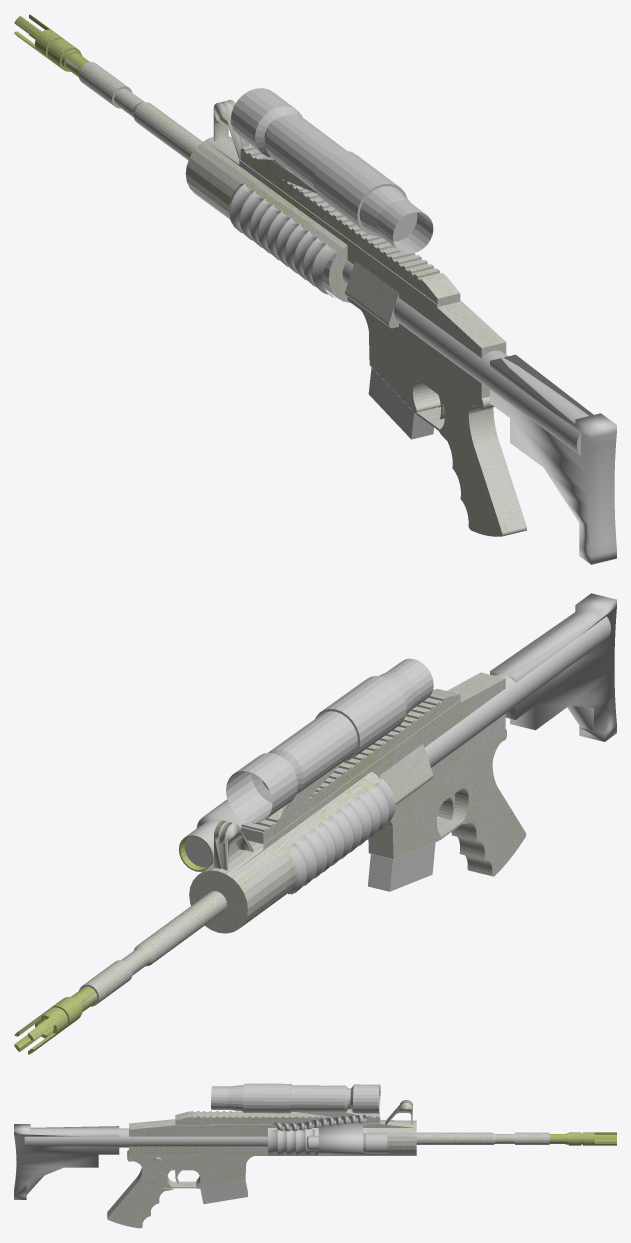
The picture shows the model from 3 angles, top to bottom: view 1: azimuth 30°, elevation 25°; view 2: azimuth 150°, elevation 25°; view 3: azimuth 270°, elevation 25°; orthographic projection. The views are drawn at different scales.
Parts seen in each view (by area): view 1: mesh2_mesh2-geometry, mesh9_mesh9-geometry, mesh3_mesh3-geometry, mesh4_mesh4-geometry, mesh10_mesh10-geometry, mesh8_mesh8-geometry; view 2: mesh2_mesh2-geometry, mesh9_mesh9-geometry, mesh3_mesh3-geometry, mesh4_mesh4-geometry, mesh10_mesh10-geometry, mesh6_mesh6-geometry, mesh8_mesh8-geometry; view 3: mesh2_mesh2-geometry, mesh9_mesh9-geometry, mesh3_mesh3-geometry, mesh7_mesh7-geometry, mesh5_mesh5-geometry, mesh10_mesh10-geometry, mesh1_mesh1-geometry, mesh6_mesh6-geometry, mesh8_mesh8-geometry.
Part boxes in pixels (x1,y1,x2,y2): mesh2_mesh2-geometry: (14, 14, 526, 536); mesh9_mesh9-geometry: (490, 354, 616, 564); mesh3_mesh3-geometry: (342, 260, 589, 455); mesh4_mesh4-geometry: (228, 183, 335, 298); mesh10_mesh10-geometry: (368, 367, 433, 439); mesh8_mesh8-geometry: (213, 99, 249, 159); mesh2_mesh2-geometry: (14, 658, 526, 1054); mesh9_mesh9-geometry: (490, 593, 616, 741); mesh3_mesh3-geometry: (424, 611, 610, 767); mesh4_mesh4-geometry: (288, 779, 395, 894); mesh10_mesh10-geometry: (368, 842, 435, 891); mesh6_mesh6-geometry: (179, 820, 232, 871); mesh8_mesh8-geometry: (214, 820, 253, 870); mesh2_mesh2-geometry: (107, 1083, 616, 1228); mesh9_mesh9-geometry: (14, 1124, 119, 1199); mesh3_mesh3-geometry: (24, 1128, 267, 1147); mesh7_mesh7-geometry: (318, 1123, 363, 1154); mesh5_mesh5-geometry: (268, 1129, 366, 1155); mesh10_mesh10-geometry: (200, 1180, 247, 1204); mesh1_mesh1-geometry: (273, 1115, 369, 1131); mesh6_mesh6-geometry: (307, 1133, 387, 1153); mesh8_mesh8-geometry: (385, 1100, 412, 1124).
Size of the model in its own units: 0.1062 by 0.2474 by 0.9631.
